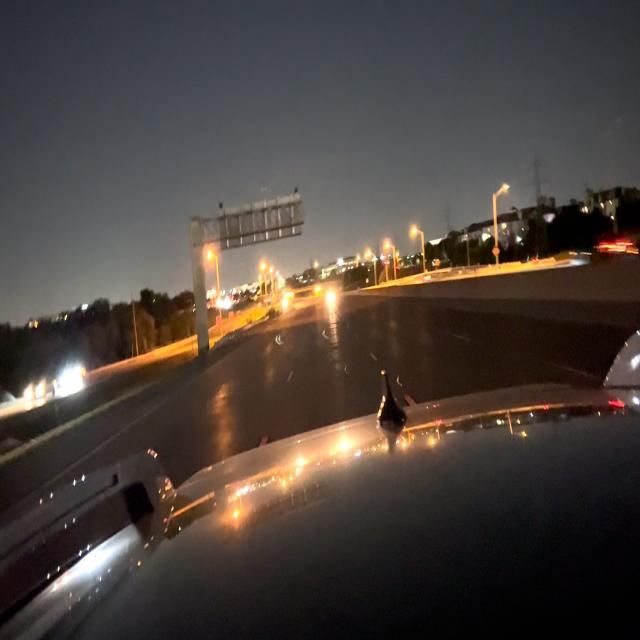back-of-sign: (215, 195, 303, 247)
